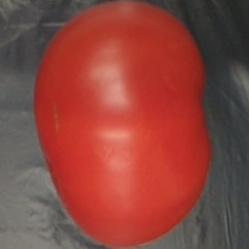unripe: (28, 0, 221, 249)
